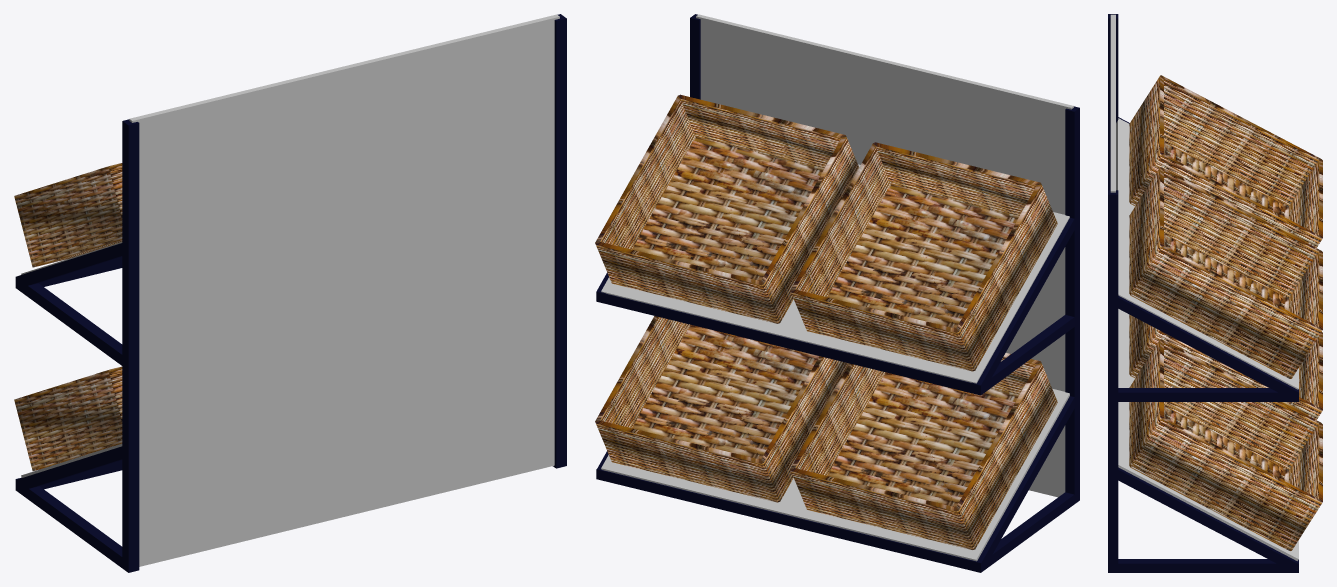
File: fruit_shelf.fbx
3 views of the same model, side by side, from view 1: azimuth 30°, elevation 25°; view 2: azimuth 150°, elevation 25°; view 3: azimuth 270°, elevation 25° (orthographic). The views are drawn at different scales.
Visible parts, largest first — view 1: shelf.003, Cube.019, Box.005, Box.006; view 2: shelf.003, Box.005, Box.004, Box.006, Box.007, Cube.019; view 3: Box.004, Box.007, Box.005, Cube.019, shelf.003, Box.006.
Boxes of the visible parts, box(x1,y1,x2,y2) form: shelf.003: box(21, 14, 559, 566); Cube.019: box(15, 14, 566, 572); Box.005: box(14, 163, 122, 267); Box.006: box(14, 366, 122, 470); shelf.003: box(601, 14, 1073, 561); Box.005: box(790, 142, 1057, 371); Box.004: box(595, 94, 858, 323); Box.006: box(790, 353, 1057, 549); Box.007: box(595, 316, 849, 502); Cube.019: box(596, 14, 1079, 572); Box.004: box(1129, 167, 1322, 378); Box.007: box(1129, 339, 1322, 550); Box.005: box(1129, 75, 1322, 247); Cube.019: box(1108, 14, 1298, 572); shelf.003: box(1110, 14, 1298, 561); Box.006: box(1129, 314, 1322, 419).
Bounding box in the file's own units: 205 × 201 × 103.
